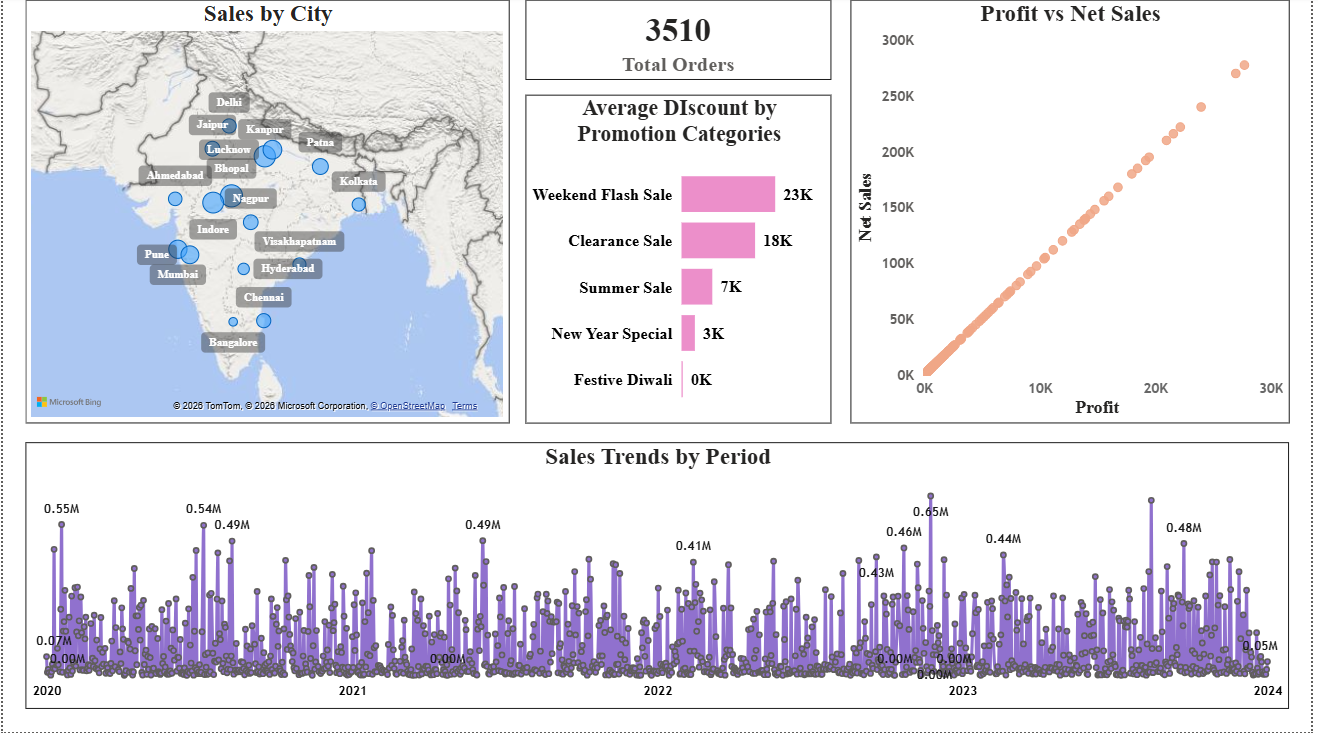

Layout of this report page (visuals, bound fields, positions):
{"tool":"powerbi","page":{"name":"Overview","canvas":[1280,720],"ordinal":0},"visuals":[{"type":"lineChart","title":"Sales Trends by Period","fields":{"Y":["Sum(Fact Table.Net Sales   )"],"Category":["Fact Table.Date (dd/mm/yyyy).Variation.Date Hierarchy.Year"]},"box":[22,436.4,1236.4,260.7],"z":0},{"type":"scatterChart","title":"Profit vs Net Sales   ","fields":{"Y":["Fact Table.Net Sales   "],"X":["Fact Table.Profit"]},"box":[829.1,3.7,429.2,414.5],"z":1000},{"type":"barChart","title":"Average DIscount by Promotion Categories","fields":{"Y":["Avg(Fact Table.DIscount)"],"Category":["Dim Promotion.Promotion Name"]},"box":[511.1,96.6,299.6,321.6],"z":2000},{"type":"map","title":"Sales by City","fields":{"Category":["Dim Customers.City"],"Size":["Sum(Fact Table.Net Sales   )"]},"box":[22,3.7,473.2,414.5],"z":3000},{"type":"card","fields":{"Values":["CountNonNull(Fact Table.Index)"]},"box":[511.1,3.7,299.6,78.3],"z":4000}]}

Visuals, with their boxes in screenshot pixels (x1, y1, x2, y2), scaled from the page's 1280x720 canvas onto the 1318x733 screenshot:
"Sales Trends by Period" lineChart: (23, 444, 1296, 710)
"Profit vs Net Sales   " scatterChart: (854, 4, 1296, 426)
"Average DIscount by Promotion Categories" barChart: (526, 98, 835, 426)
"Sales by City" map: (23, 4, 510, 426)
card - CountNonNull(Fact Table.Index): (526, 4, 835, 83)
